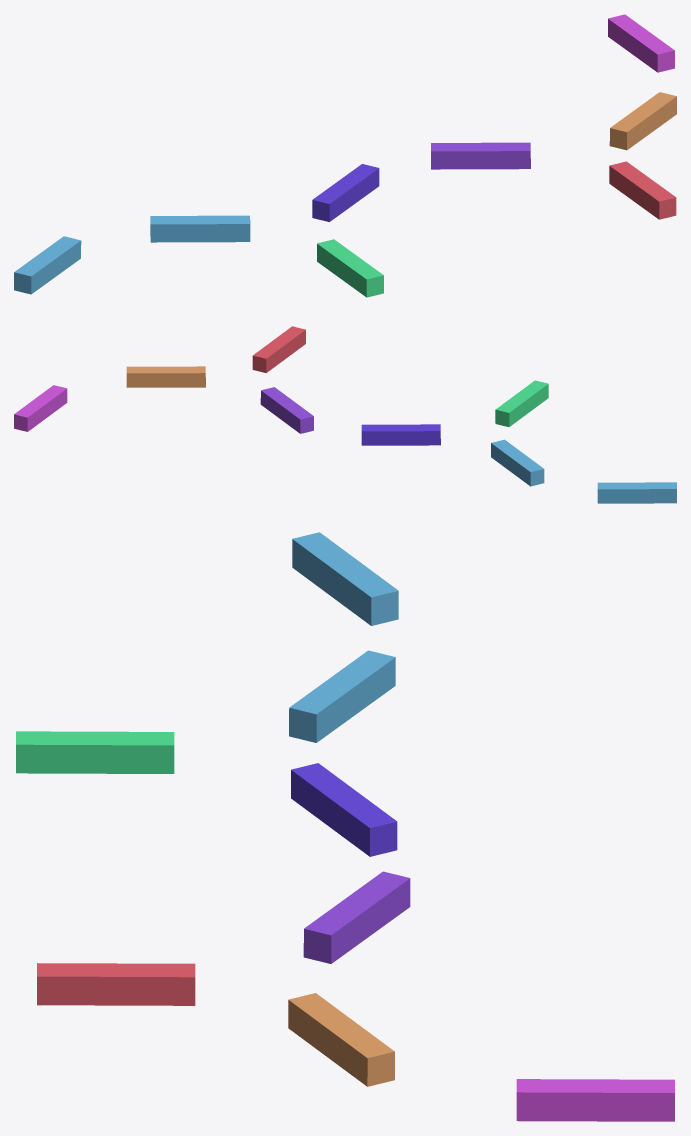
Rendered from roads5.dae.
3 renders of one model, top to bottom at view 1: azimuth 30°, elevation 25°; view 2: azimuth 150°, elevation 25°; view 3: azimuth 270°, elevation 25°, orthographic. The views are drawn at different scales.
Parts seen in each view (by area): view 1: road.032; view 2: road.032; view 3: road.032.
Boxes of the visible parts, x1,y1,x2,y2 form: road.032: [14, 14, 676, 297]; road.032: [14, 326, 676, 503]; road.032: [16, 532, 674, 1121].
Size of the model in its own units: 4.19 by 2.08 by 0.1024.
